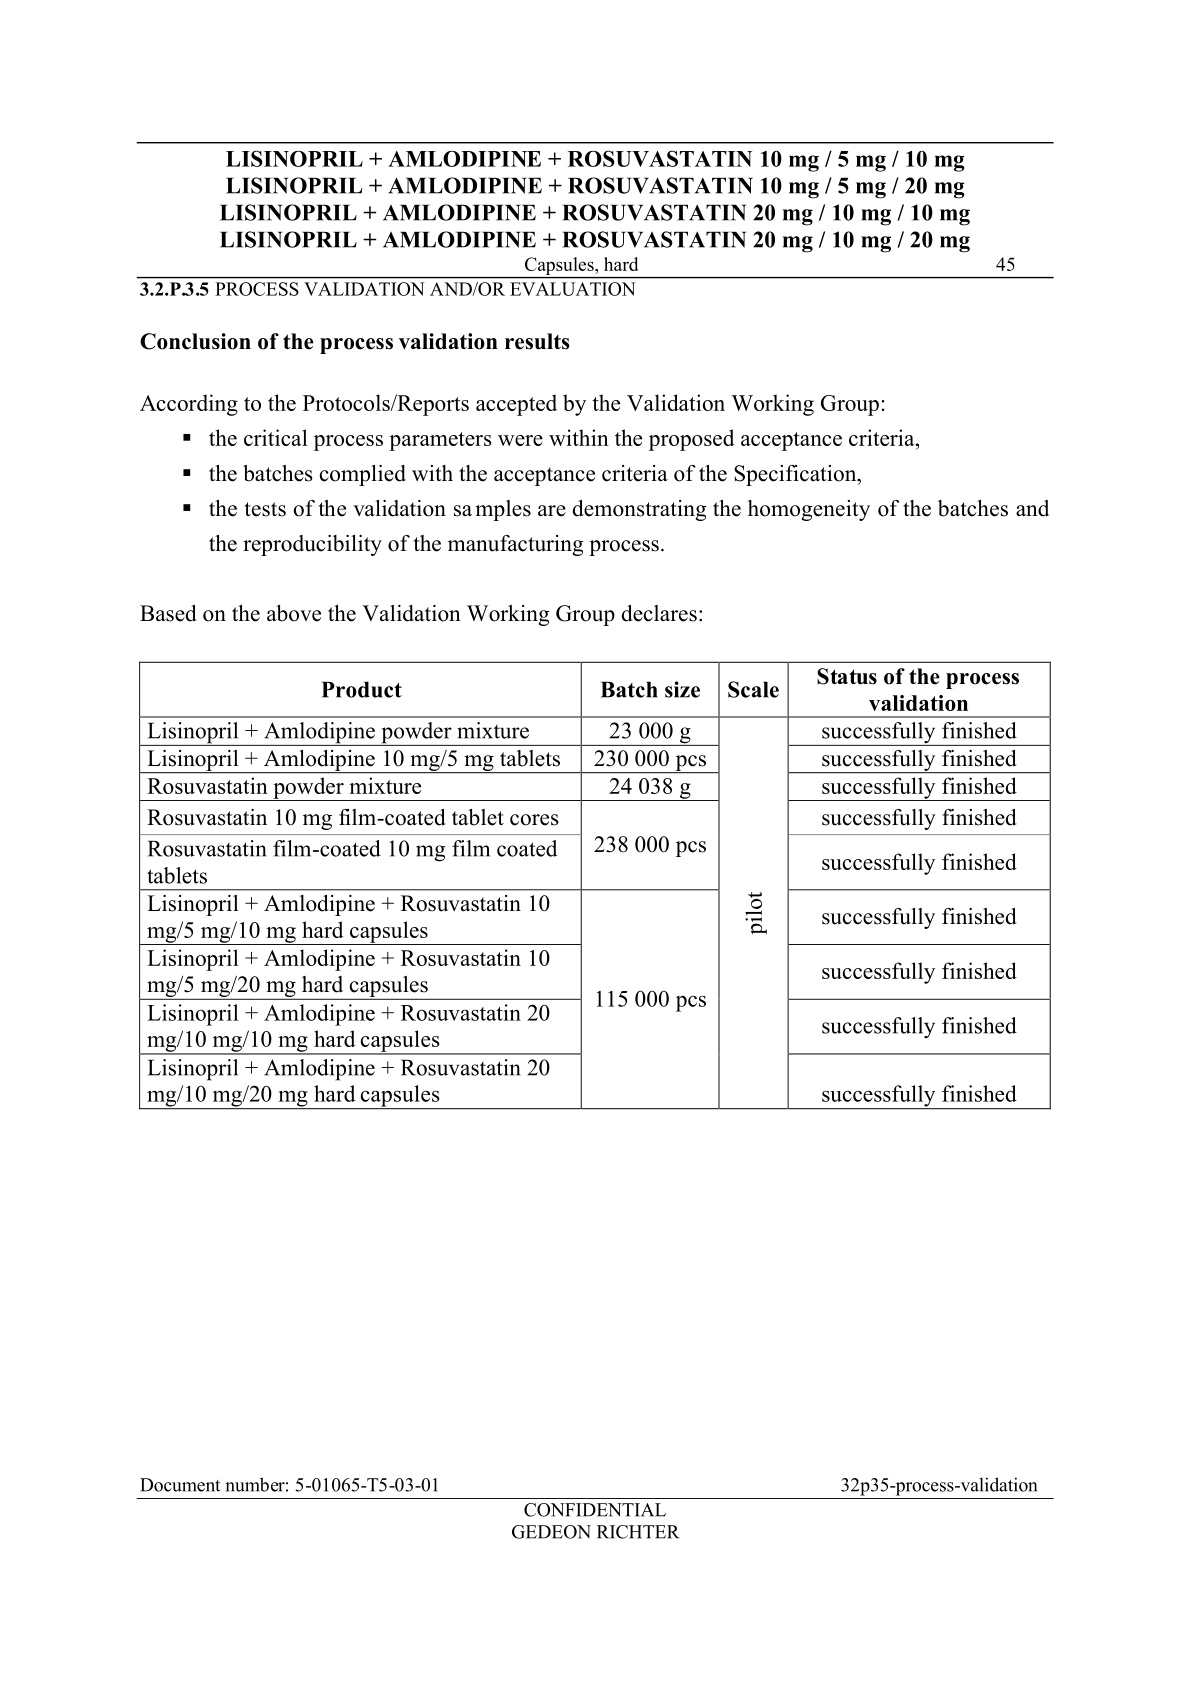merged_cells: (137, 660, 1051, 1111)
